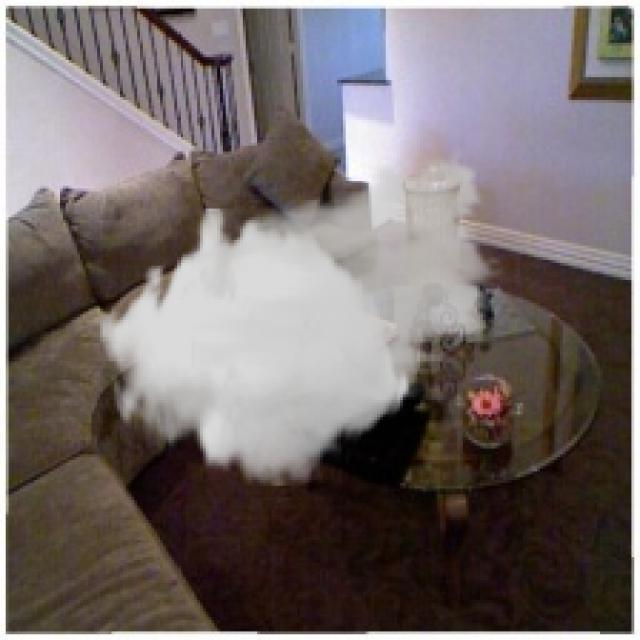Smoke: (97, 143, 506, 486)
